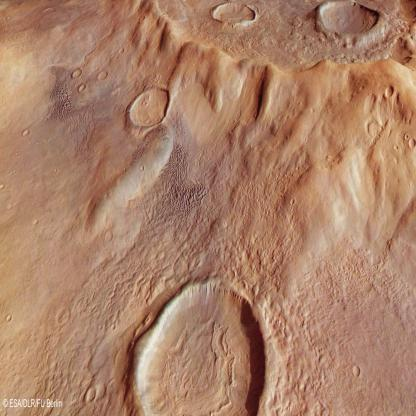craters: (121, 267, 286, 416), (158, 326, 237, 416), (121, 89, 179, 138), (206, 0, 267, 44), (92, 63, 113, 87), (345, 358, 363, 378), (20, 126, 34, 142), (70, 66, 82, 82), (77, 79, 85, 94)
